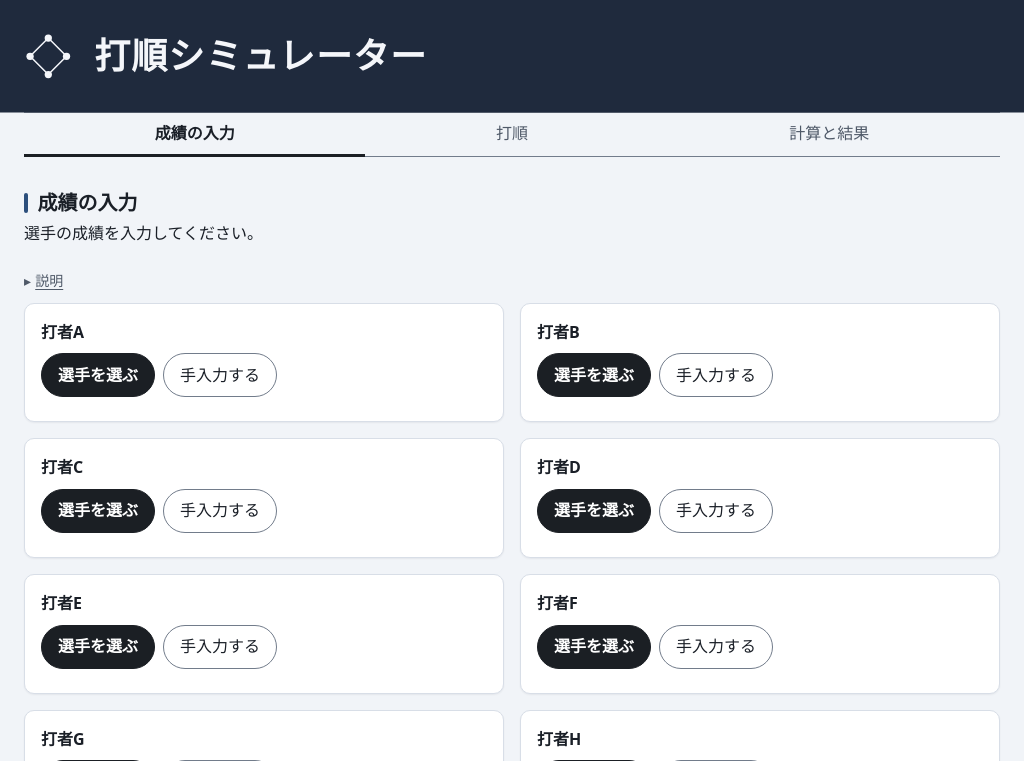
Test case: プリセットの選択ダイアログ › シーズン（新しい年が既定）と、リーグ → 地区（東・中・西）ごとの球団・選手数を表示する
Click the button with aria-label "打者Aの選手を選ぶ".
click(98, 375)  # box [41,353,155,397]
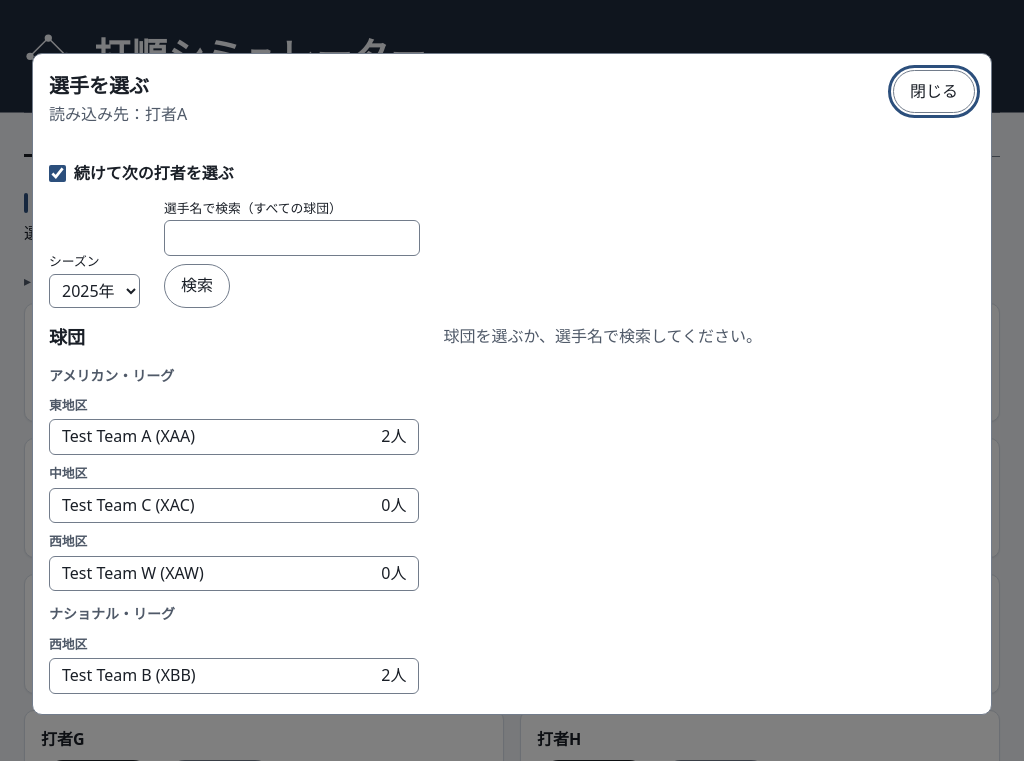
Result: the text "読み込み先：打者A" is shown at [49,102,187,128]
Result: the dropdown labelled "シーズン" shows "2025年" at [49,274,140,308]
Result: the headings read "東地区", "中地区", "西地区", in this order at [49,396,87,414]; [49,464,87,482]; [49,532,87,550]
